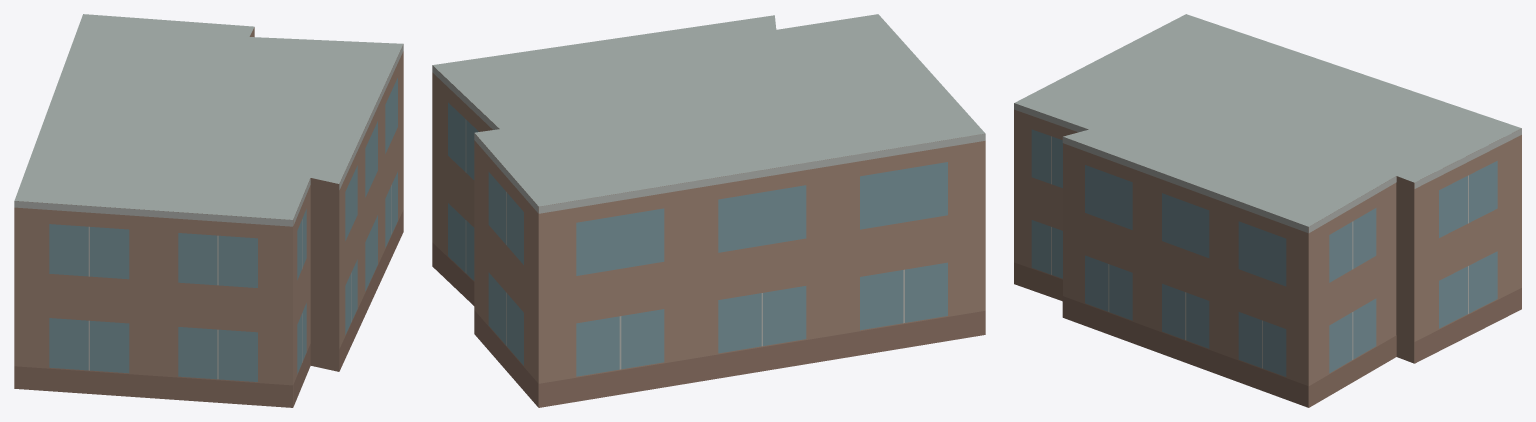
File: survey-upis-32763389.glb
3 views of the same model, side by side, from view 1: azimuth 30°, elevation 25°; view 2: azimuth 150°, elevation 25°; view 3: azimuth 270°, elevation 25° (orthographic). The views are drawn at different scales.
Parts seen in each view (by area): view 1: survey-upis-32763389.tmp; view 2: survey-upis-32763389.tmp; view 3: survey-upis-32763389.tmp.
Part boxes in pixels (x1,y1,x2,y2): survey-upis-32763389.tmp: (14,14,403,407); survey-upis-32763389.tmp: (432,14,985,407); survey-upis-32763389.tmp: (1014,14,1521,407).
Bounding box in the file's own units: 17.16 × 6.8 × 17.29.
